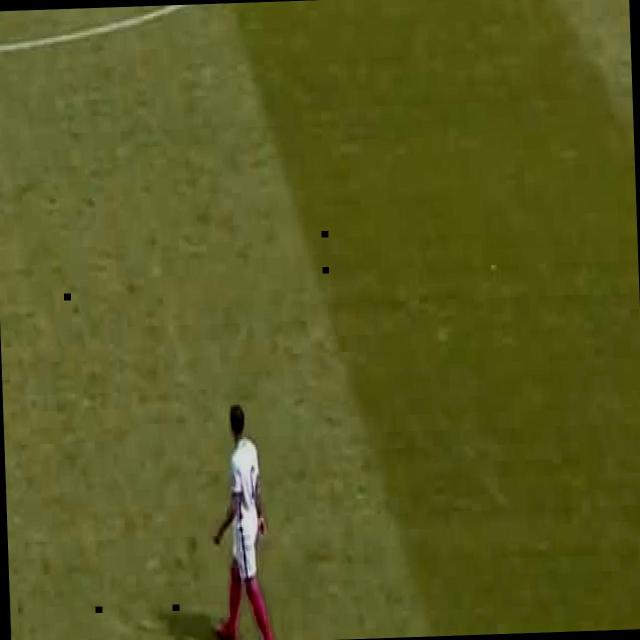player-white: (208, 399, 278, 640)
